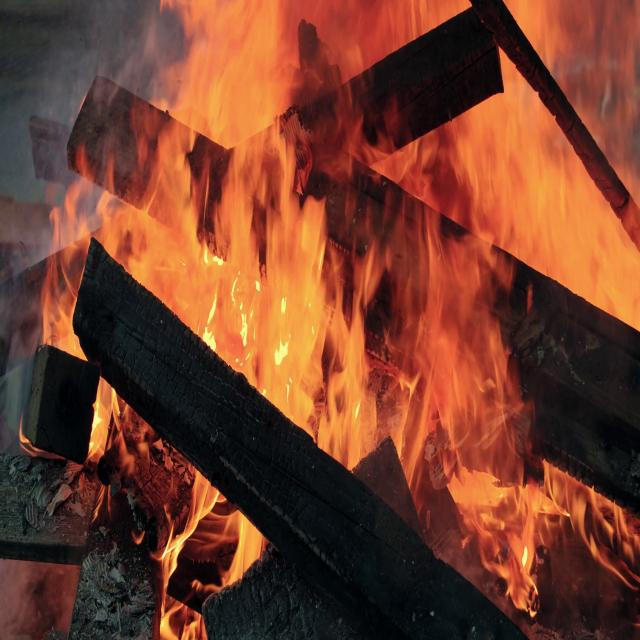Fire: (20, 0, 640, 640)
